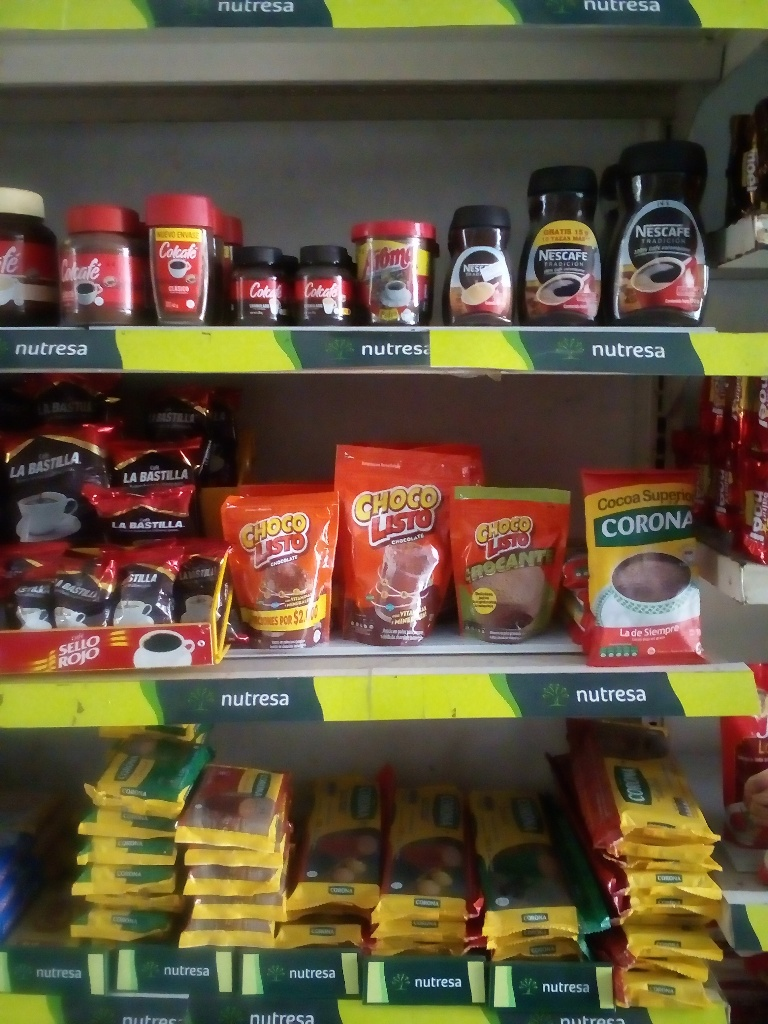COL0170102DYP10000: (450, 475, 572, 646)
COL0170103DYP20000: (329, 440, 472, 651)
